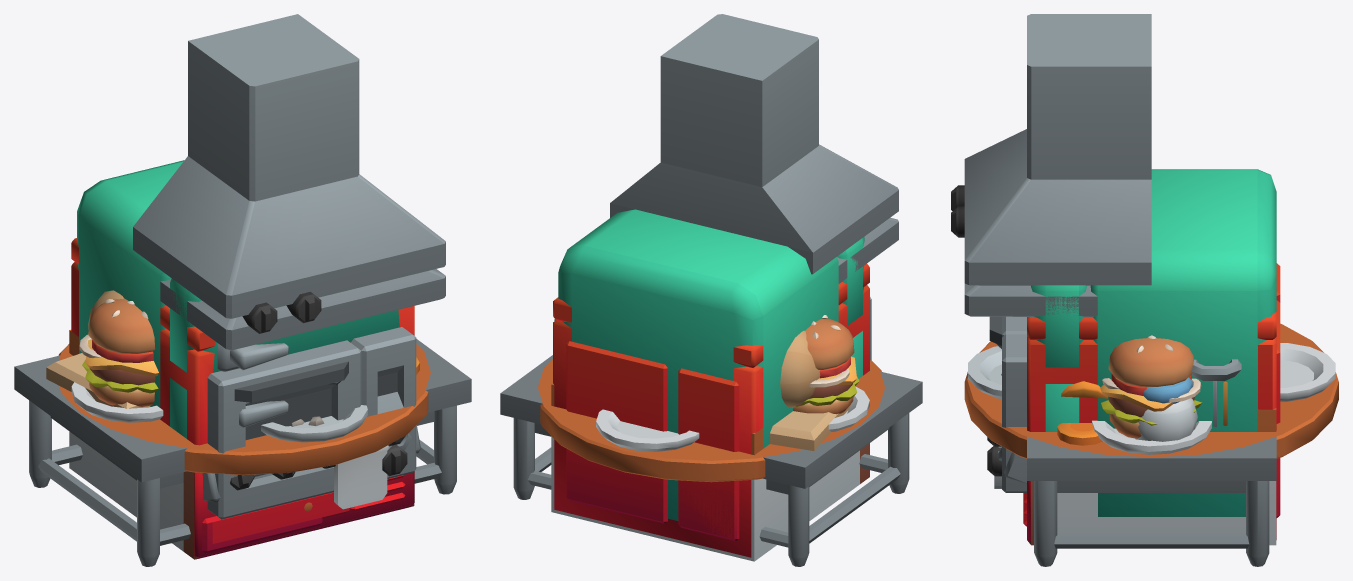
File: restaurant.glb
The picture shows the model from 3 angles, left to right: view 1: azimuth 30°, elevation 25°; view 2: azimuth 150°, elevation 25°; view 3: azimuth 270°, elevation 25°; orthographic projection. The views are drawn at different scales.
Visible parts, largest first — view 1: extractorhood, table_round_A_decorated, kitchentable_A_large_decorated, Cube.068, oven_door, Cube.106, kitchencounter_straight_A_decorated, fridge_A_decorated_door_top, stove_single, stove_multi_decorated, fridge_A_decorated_door_bottom, crate_tomatoes; view 2: extractorhood, Cube.106, Cube.068, kitchentable_A_large_decorated, table_round_A_decorated, kitchencounter_straight_A_decorated, stove_multi_decorated, stove_single, fridge_A_decorated_door_top, kitchencounter_sink_backsplash; view 3: extractorhood, Cube.106, kitchentable_A_large_decorated, table_round_A_decorated, Cube.068, kitchencounter_straight_A_decorated, fridge_A_decorated_door_top, fridge_A_decorated_door_bottom, stove_multi_decorated, oven_door, stove_single.
Boxes of the visible parts, <box> form: extractorhood: <box>133,14,445,350</box>; table_round_A_decorated: <box>58,298,430,475</box>; kitchentable_A_large_decorated: <box>14,290,471,566</box>; Cube.068: <box>71,238,416,556</box>; oven_door: <box>207,340,361,519</box>; Cube.106: <box>77,160,184,407</box>; kitchencounter_straight_A_decorated: <box>69,431,390,551</box>; fridge_A_decorated_door_top: <box>170,278,399,372</box>; stove_single: <box>195,425,420,558</box>; stove_multi_decorated: <box>197,381,419,556</box>; fridge_A_decorated_door_bottom: <box>170,378,288,438</box>; crate_tomatoes: <box>183,471,414,557</box>; extractorhood: <box>610,14,898,283</box>; Cube.106: <box>558,209,838,520</box>; Cube.068: <box>553,264,869,557</box>; kitchentable_A_large_decorated: <box>500,330,922,566</box>; table_round_A_decorated: <box>538,315,884,482</box>; kitchencounter_straight_A_decorated: <box>551,436,859,561</box>; stove_multi_decorated: <box>554,319,736,539</box>; stove_single: <box>567,451,737,540</box>; fridge_A_decorated_door_top: <box>837,237,864,325</box>; kitchencounter_sink_backsplash: <box>551,383,763,561</box>; extractorhood: <box>951,14,1151,317</box>; Cube.106: <box>1090,169,1276,516</box>; kitchentable_A_large_decorated: <box>1027,377,1276,566</box>; table_round_A_decorated: <box>964,323,1338,458</box>; Cube.068: <box>987,263,1280,539</box>; kitchencounter_straight_A_decorated: <box>994,381,1276,545</box>; fridge_A_decorated_door_top: <box>1031,285,1086,367</box>; fridge_A_decorated_door_bottom: <box>1045,384,1079,431</box>; stove_multi_decorated: <box>997,344,1241,541</box>; oven_door: <box>989,316,1026,345</box>; stove_single: <box>998,446,1280,517</box>.
Size of the model in its own units: 3 by 4 by 3.11.
1 material, 1 textured.
